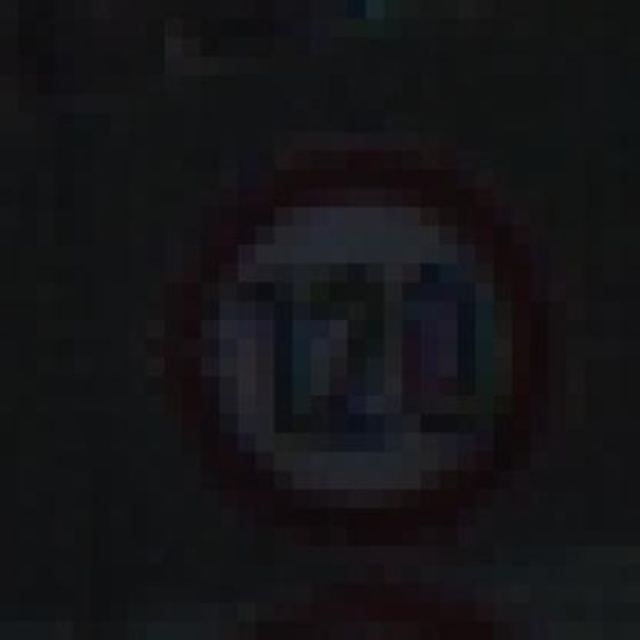Tốc độ tối đa cho phép 120km/h: (181, 160, 540, 540)
